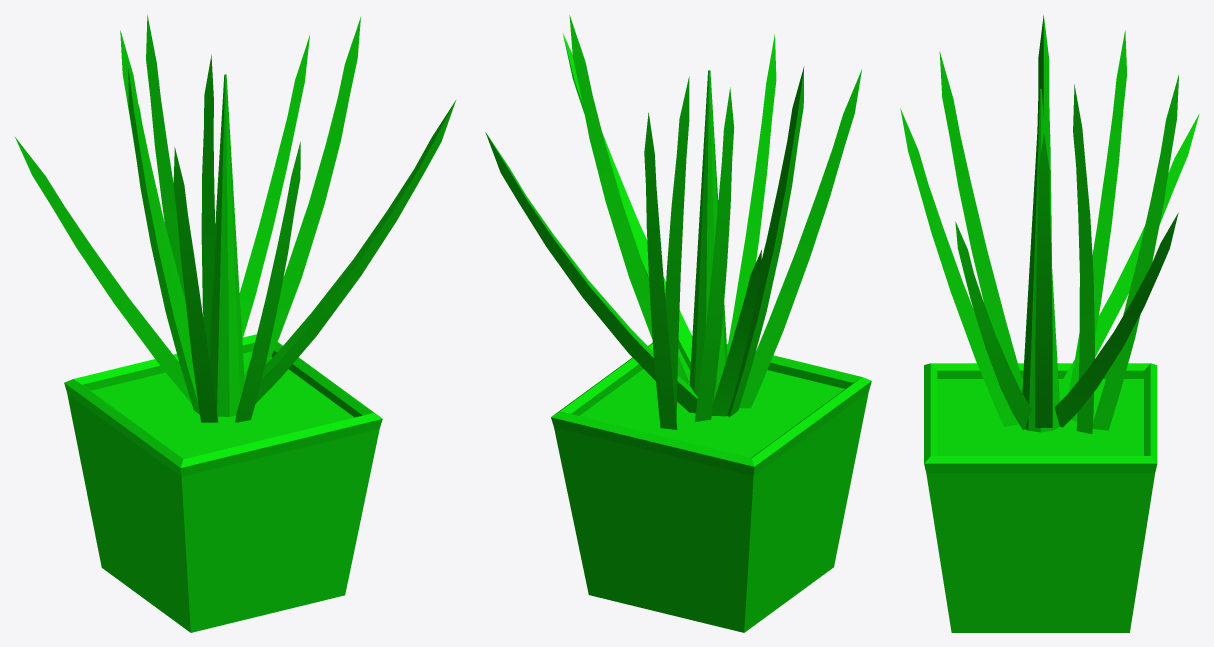
The model's file is plant 1.fbx.
3 views of the same model, side by side, from view 1: azimuth 30°, elevation 25°; view 2: azimuth 150°, elevation 25°; view 3: azimuth 270°, elevation 25° (orthographic).
Parts seen in each view (by area): view 1: plant1; view 2: plant1; view 3: plant1.
Boxes of the visible parts, x1,y1,x2,y2 form: plant1: [15, 15, 455, 632]; plant1: [485, 15, 871, 632]; plant1: [900, 15, 1199, 632].
Size of the model in its own units: 79.38 by 127 by 64.31.
